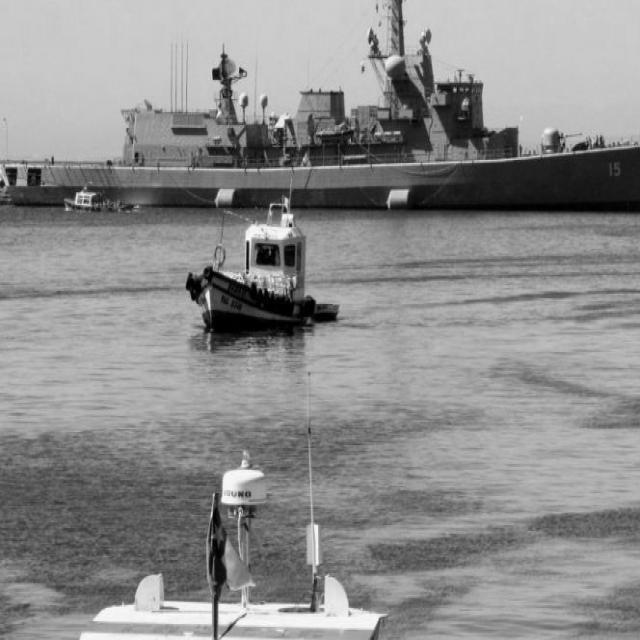Fragata: (1, 1, 640, 219)
